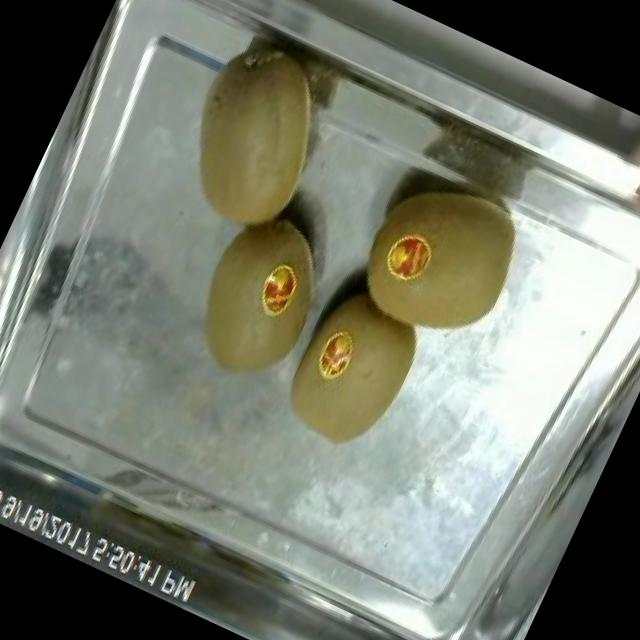Fruit: (150, 22, 359, 256), (336, 157, 546, 372), (266, 262, 452, 472), (165, 190, 345, 402)
